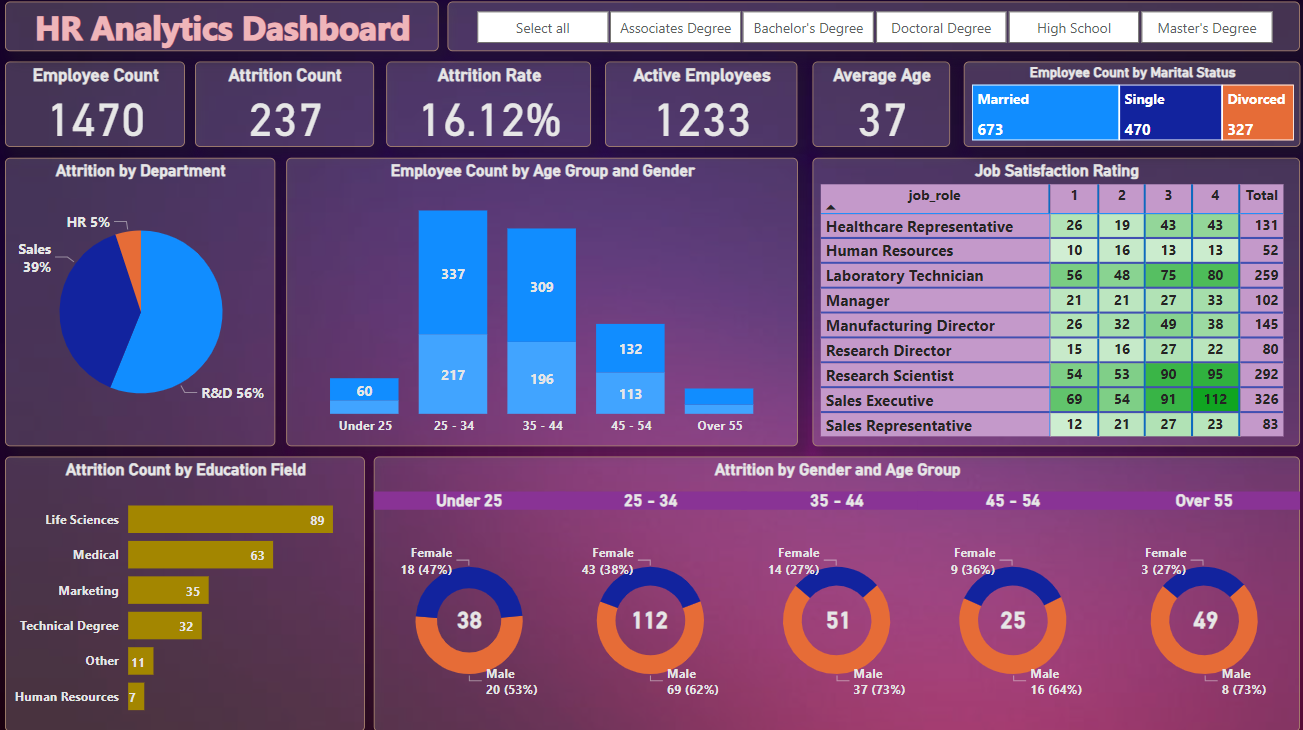

The page's visual inventory and layout, read from the dashboard file:
{"tool":"powerbi","page":{"name":"Page 1","canvas":[1280,720],"ordinal":0},"visuals":[{"type":"card","title":"Employee Count","fields":{"Values":["CountNonNull(hrdata.emp_no)"]},"box":[14.5,65.1,173.7,82],"z":0},{"type":"card","title":"Attrition Count","fields":{"Values":["Sum(hrdata.Attriton Count)"]},"box":[197.8,65.1,172.5,82],"z":1000},{"type":"card","title":"Attrition Rate","fields":{"Values":["hrdata.Attrition Rate"]},"box":[382.3,65.1,197.8,82],"z":2000},{"type":"card","title":"Average Age","fields":{"Values":["Avg(hrdata.age)"]},"box":[793.6,65.1,132.7,82],"z":3000},{"type":"card","title":"Active Employees","fields":{"Values":["Sum(hrdata.active_employee)"]},"box":[593.4,65.1,185.7,82],"z":4000},{"type":"pieChart","title":"Attrition by Department","fields":{"Category":["hrdata.department"],"Y":["Sum(hrdata.Attriton Count)"]},"box":[14.5,158,260.5,278.6],"z":5000},{"type":"columnChart","title":"Employee Count by Age Group and Gender","fields":{"Category":["hrdata.age_band"],"Y":["Sum(hrdata.employee_count)"],"Series":["hrdata.gender"]},"box":[285.8,158,493.3,278.6],"z":6000},{"type":"pivotTable","title":"Job Satisfaction Rating","fields":{"Columns":["hrdata.job_satisfaction"],"Rows":["hrdata.job_role"],"Values":["Sum(hrdata.employee_count)"]},"box":[793.6,158,470.4,278.6],"z":7000},{"type":"barChart","title":"Attrition Count by Education Field","fields":{"Category":["hrdata.education_field"],"Y":["Sum(hrdata.Attriton Count)"]},"box":[14.5,446.2,347.3,265.3],"z":8000},{"type":"shape","title":"Attrition by Gender and Age Group","box":[370.3,446.2,893.7,265.3],"z":9000},{"type":"donutChart","title":"Under 25","fields":{"Y":["Sum(hrdata.Attriton Count)"],"Category":["hrdata.gender"]},"box":[370.3,480,184.5,231.6],"z":10000},{"type":"donutChart","title":"25 - 34","fields":{"Y":["Sum(hrdata.Attriton Count)"],"Category":["hrdata.gender"]},"box":[545.1,480,184.5,231.6],"z":11000},{"type":"donutChart","title":"35 - 44","fields":{"Y":["Sum(hrdata.Attriton Count)"],"Category":["hrdata.gender"]},"box":[724.8,480,184.5,231.6],"z":12000},{"type":"donutChart","title":"45 - 54","fields":{"Y":["Sum(hrdata.Attriton Count)"],"Category":["hrdata.gender"]},"box":[894.9,480,184.5,231.6],"z":13000},{"type":"donutChart","title":"Over 55","fields":{"Y":["Sum(hrdata.Attriton Count)"],"Category":["hrdata.gender"]},"box":[1079.4,480,184.5,231.6],"z":14000},{"type":"card","title":"Under 25","fields":{"Values":["Sum(hrdata.Attriton Count)"]},"box":[441.4,578.9,42.2,50.7],"z":15000},{"type":"card","title":"Under 25","fields":{"Values":["Sum(hrdata.Attriton Count)"]},"box":[611.5,578.9,49.4,50.7],"z":16000},{"type":"card","title":"Under 25","fields":{"Values":["Sum(hrdata.Attriton Count)"]},"box":[797.2,578.9,42.2,50.7],"z":17000},{"type":"card","title":"Under 25","fields":{"Values":["Sum(hrdata.Attriton Count)"]},"box":[966,578.9,42.2,50.7],"z":18000},{"type":"card","title":"Under 25","fields":{"Values":["Sum(hrdata.Attriton Count)"]},"box":[1151.8,578.9,42.2,50.7],"z":19000},{"type":"textbox","title":"HR Analytics Dashboard","box":[14.5,7.2,418.5,48.2],"z":19001},{"type":"slicer","title":"Employee Count","fields":{"Values":["hrdata.education"]},"box":[441.4,7.2,822.5,48.2],"z":19002},{"type":"treemap","title":"Employee Count by Marital Status","fields":{"Group":["hrdata.marital_status"],"Values":["Sum(hrdata.employee_count)"]},"box":[939.5,65.1,324.4,82],"z":19003}]}

Visuals, with their boxes in screenshot pixels (x1, y1, x2, y2), scaled from the page's 1280x720 canvas onto the 1303x730 screenshot:
"Employee Count" card: box(15, 66, 192, 149)
"Attrition Count" card: box(201, 66, 377, 149)
"Attrition Rate" card: box(389, 66, 591, 149)
"Average Age" card: box(808, 66, 943, 149)
"Active Employees" card: box(604, 66, 793, 149)
"Attrition by Department" pieChart: box(15, 160, 280, 443)
"Employee Count by Age Group and Gender" columnChart: box(291, 160, 793, 443)
"Job Satisfaction Rating" pivotTable: box(808, 160, 1287, 443)
"Attrition Count by Education Field" barChart: box(15, 452, 368, 721)
"Attrition by Gender and Age Group" shape: box(377, 452, 1287, 721)
"Under 25" donutChart: box(377, 487, 565, 721)
"25 - 34" donutChart: box(555, 487, 743, 721)
"35 - 44" donutChart: box(738, 487, 926, 721)
"45 - 54" donutChart: box(911, 487, 1099, 721)
"Over 55" donutChart: box(1099, 487, 1287, 721)
"Under 25" card: box(449, 587, 492, 638)
"Under 25" card: box(622, 587, 673, 638)
"Under 25" card: box(812, 587, 854, 638)
"Under 25" card: box(983, 587, 1026, 638)
"Under 25" card: box(1172, 587, 1215, 638)
"HR Analytics Dashboard" textbox: box(15, 7, 441, 56)
"Employee Count" slicer: box(449, 7, 1287, 56)
"Employee Count by Marital Status" treemap: box(956, 66, 1287, 149)
